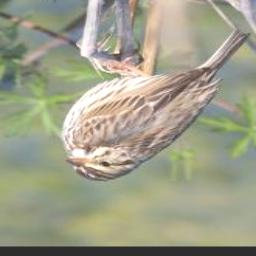Sparrow: (59, 29, 251, 183)
